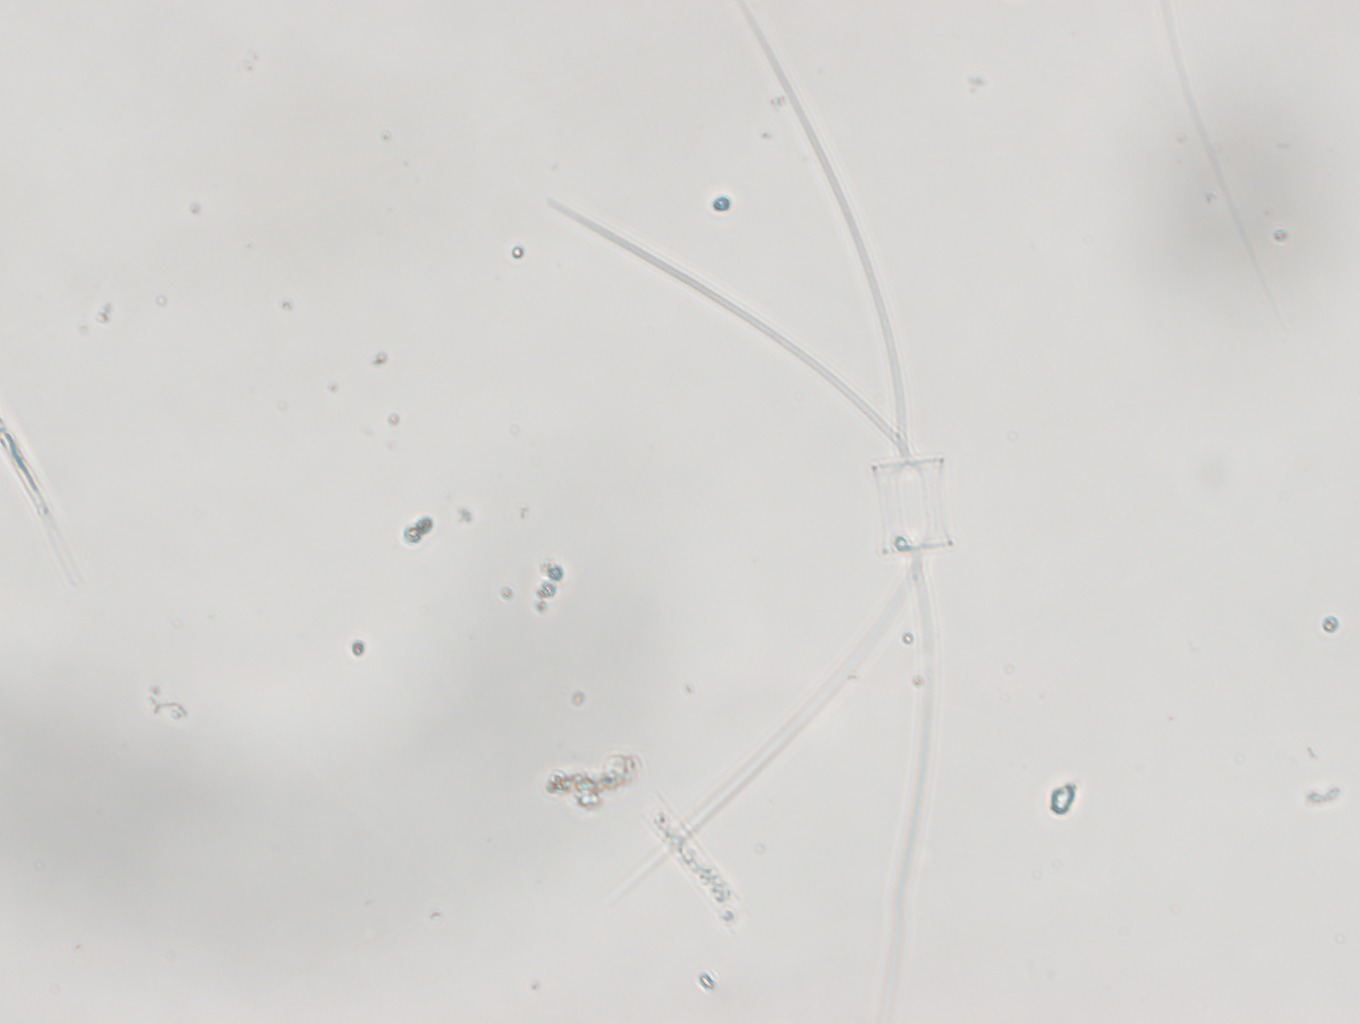chaetoceros: (540, 1, 961, 1023)
